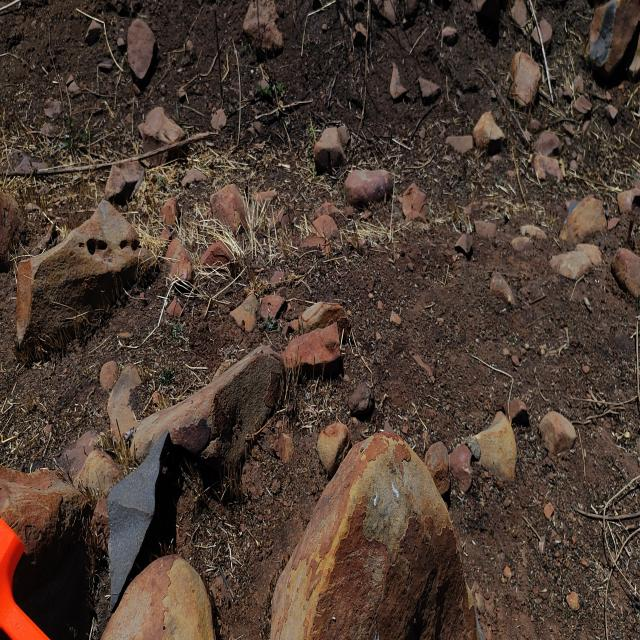Orange_hammer: (0, 516, 51, 640)
